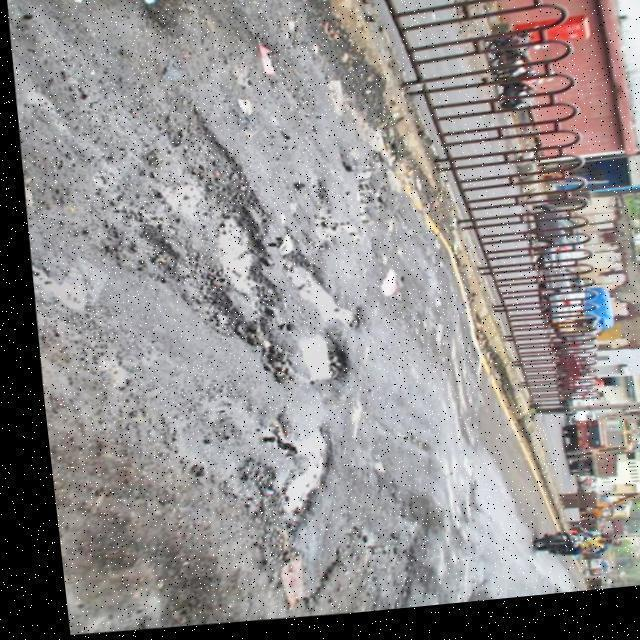Pothole: (89, 94, 298, 390), (164, 383, 338, 609), (277, 225, 368, 403)
